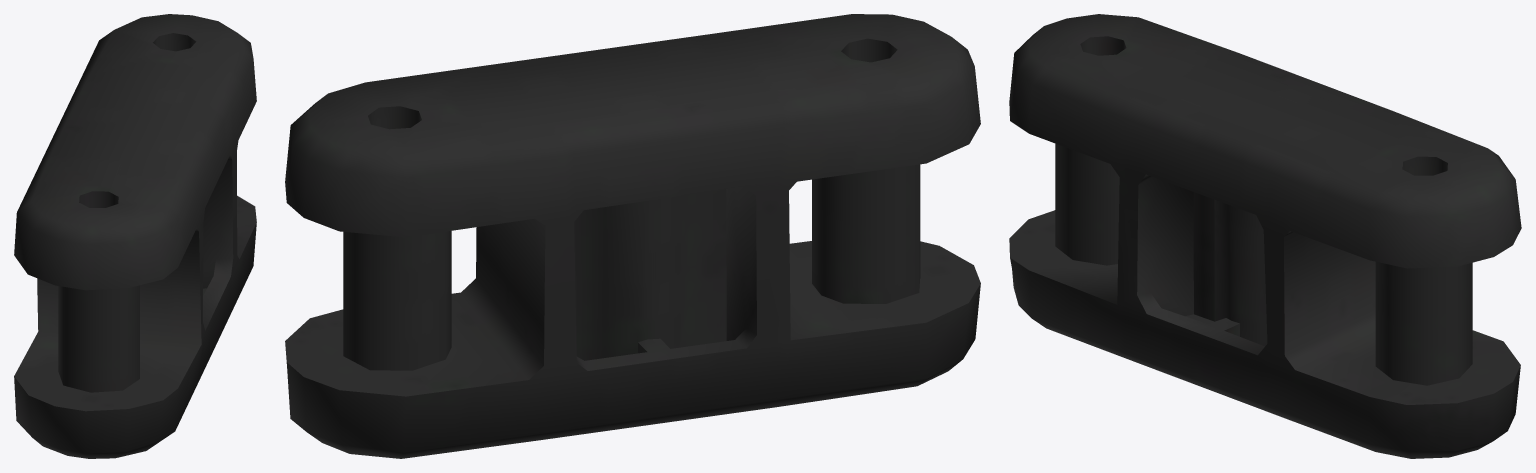
File: gripper_left_6.dae
3 views of the same model, side by side, from view 1: azimuth 30°, elevation 25°; view 2: azimuth 150°, elevation 25°; view 3: azimuth 270°, elevation 25° (orthographic). The views are drawn at different scales.
Parts seen in each view (by area): view 1: gripper_left_6; view 2: gripper_left_6; view 3: gripper_left_6.
Boxes of the visible parts, x1,y1,x2,y2 form: gripper_left_6: (14, 14, 256, 458); gripper_left_6: (285, 14, 980, 458); gripper_left_6: (1009, 14, 1521, 458).
Size of the model in its own units: 0.0249 by 0.0268 by 0.0151.
